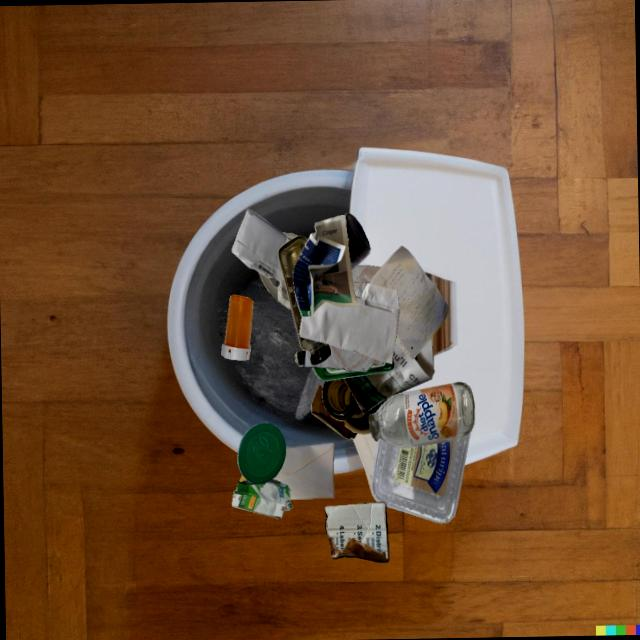cardboard: (324, 502, 388, 562), (232, 474, 292, 518), (311, 384, 357, 439)
glass: (368, 381, 474, 447), (277, 235, 330, 364), (321, 378, 387, 434), (311, 356, 394, 381), (344, 213, 370, 271)
paper: (369, 245, 448, 359), (299, 283, 399, 364), (343, 337, 434, 413), (292, 214, 357, 316), (231, 209, 291, 309), (272, 442, 334, 499), (303, 344, 383, 372), (352, 432, 379, 501), (351, 265, 381, 297)
plastic: (371, 432, 470, 523), (237, 422, 285, 484), (265, 235, 305, 309), (221, 294, 253, 360)
